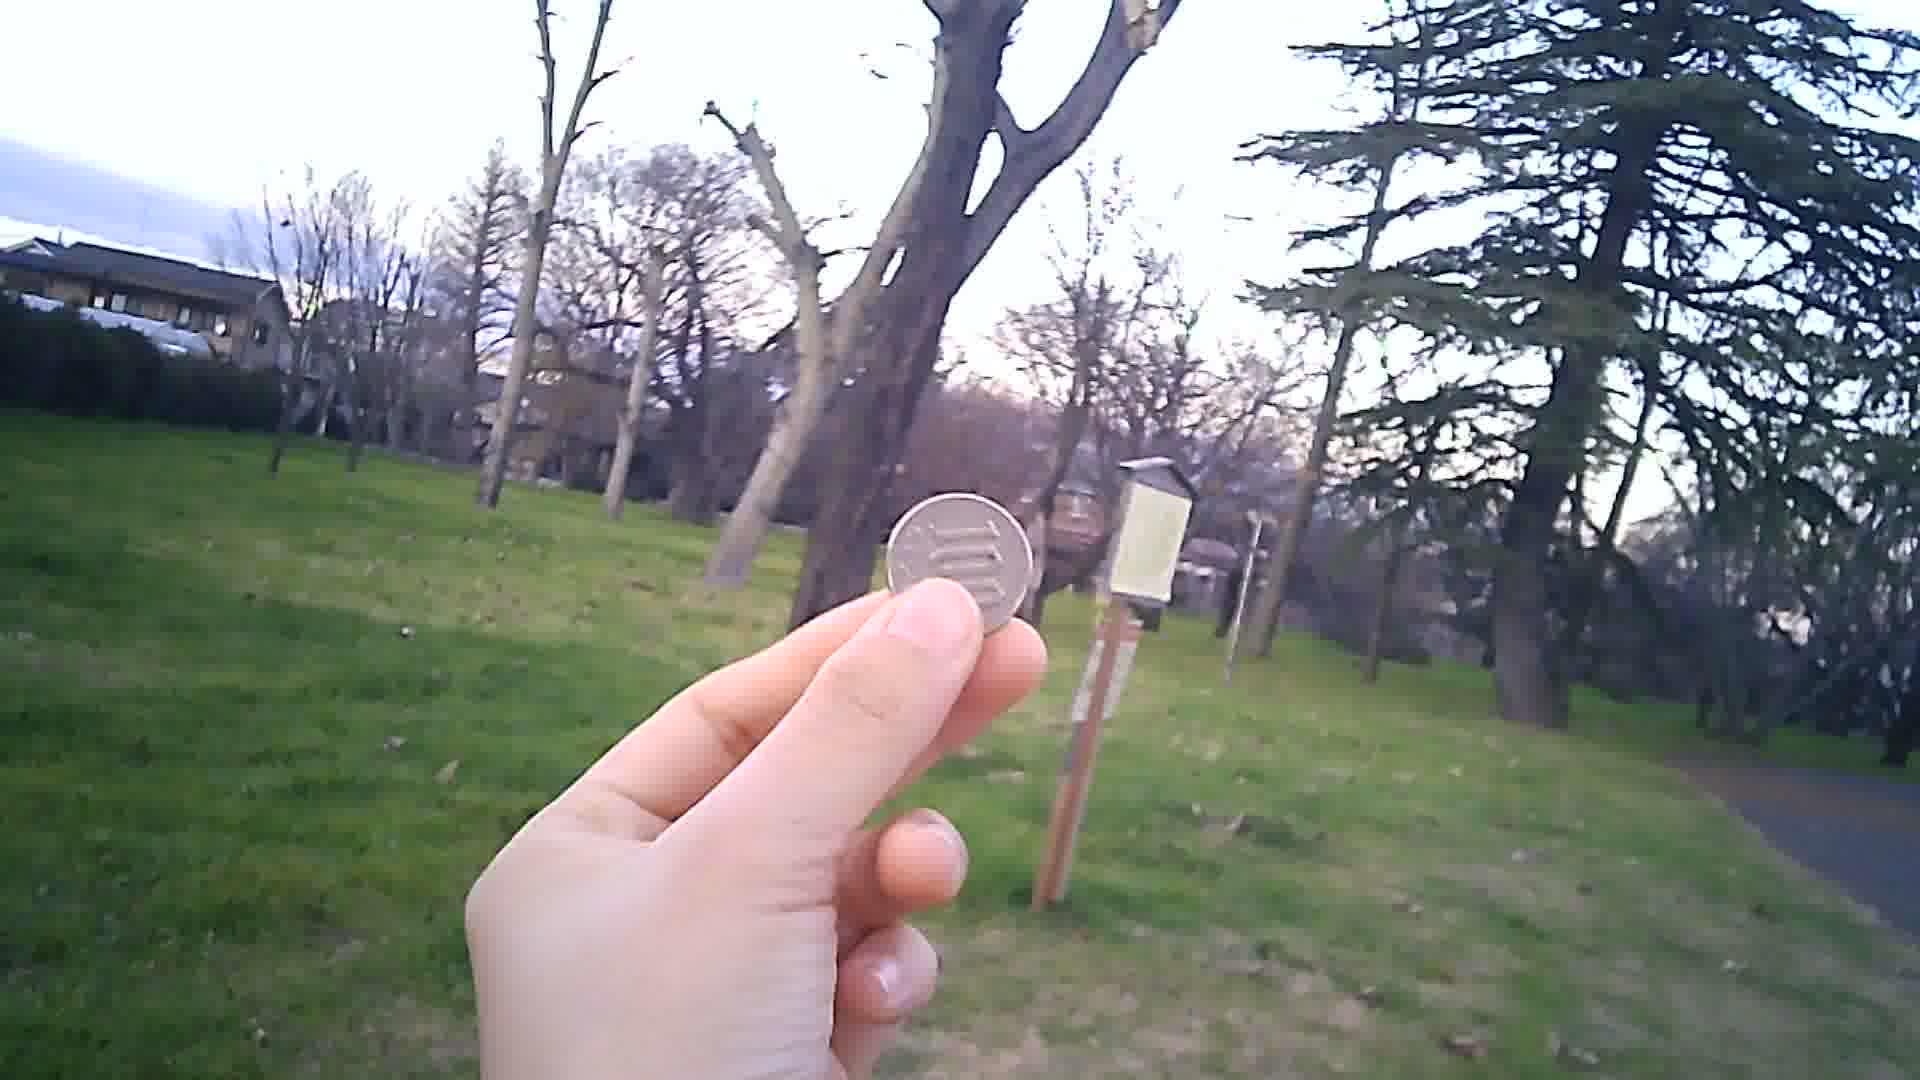100 Yen: (876, 484, 1048, 644)
